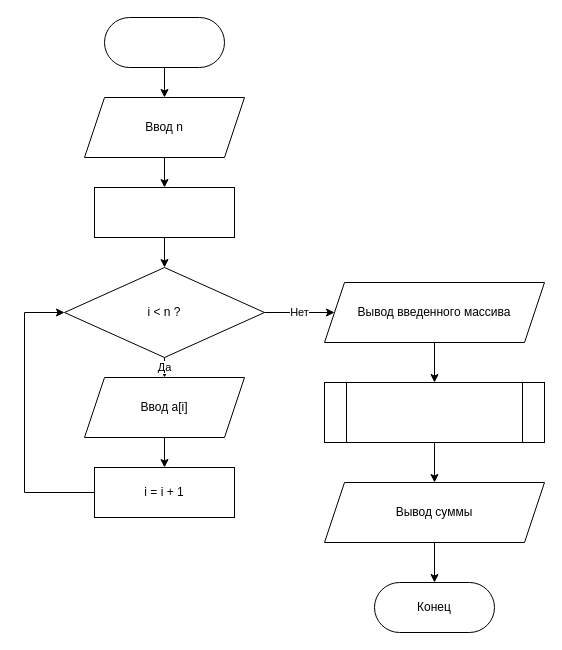
Image size: 562x650. Some labels were removed from this diagram. The box of each missing label's shape, as (x1, y1, x2, y2) in pixels:
i = 0: (94, 186, 234, 238)
sum_without_min_max(a, n) минимум и максимум исключаются: (324, 382, 544, 442)
Начало: (104, 16, 224, 68)
